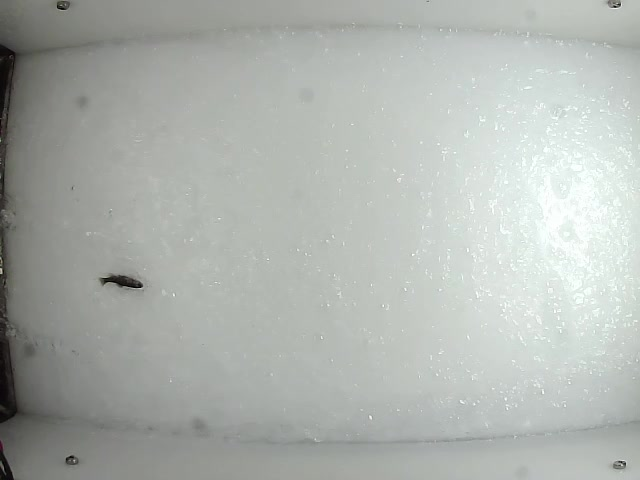fish: (98, 273, 144, 291)
